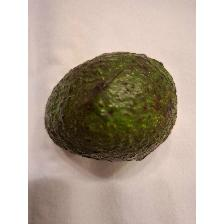Avocado: (42, 48, 180, 166)
